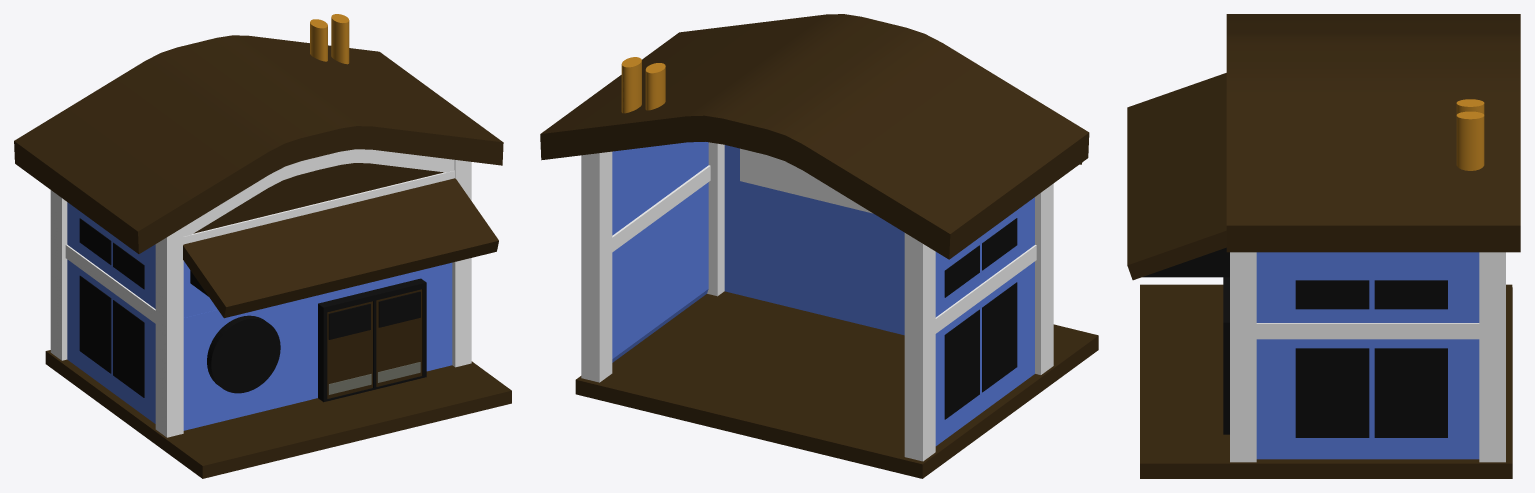
Rendered from post office.fbx.
The picture shows the model from 3 angles, left to right: view 1: azimuth 30°, elevation 25°; view 2: azimuth 150°, elevation 25°; view 3: azimuth 270°, elevation 25°; orthographic projection. The views are drawn at different scales.
Parts seen in each view (by area): view 1: Object013; view 2: Object013; view 3: Object013.
Boxes of the visible parts, x1=… form: Object013: x1=14, y1=14, x2=511, y2=478; Object013: x1=540, y1=14, x2=1098, y2=478; Object013: x1=1127, y1=14, x2=1520, y2=478.
Size of the model in its own units: 931 by 708 by 732.
